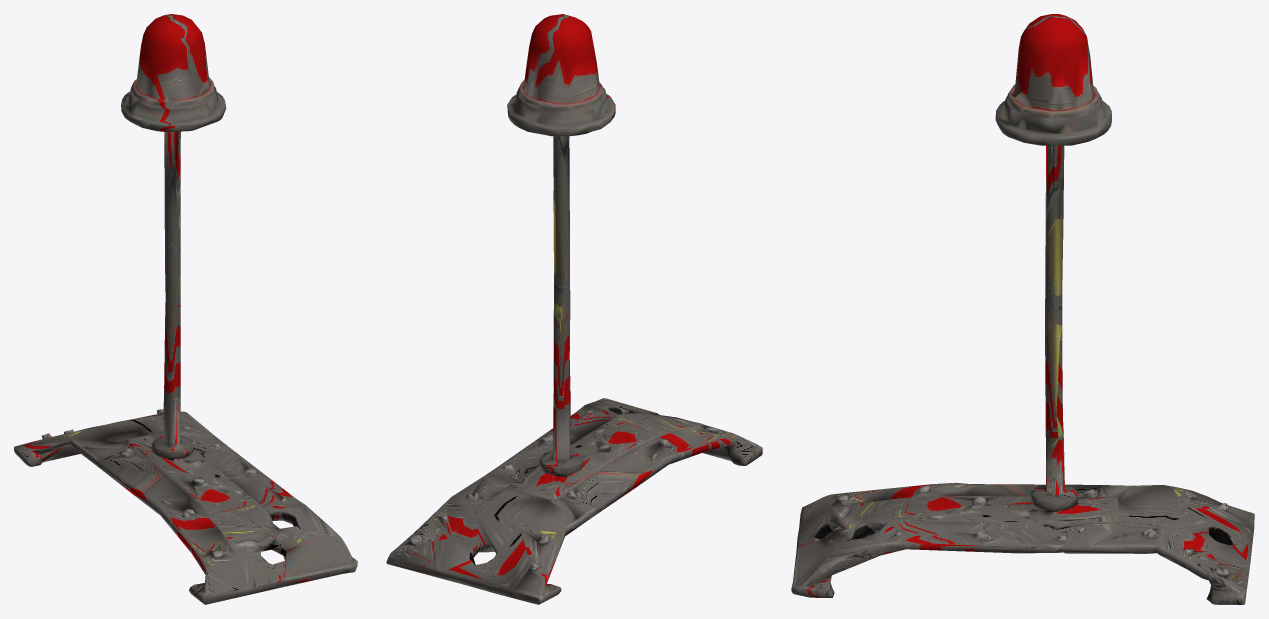
The model's file is disc_beacon.glb.
3 views of the same model, side by side, from view 1: azimuth 30°, elevation 25°; view 2: azimuth 150°, elevation 25°; view 3: azimuth 270°, elevation 25° (orthographic). The views are drawn at different scales.
Parts seen in each view (by area): view 1: tripo_node_bddd0a1d-896c-4143-a2b4-90d6b4c2355c; view 2: tripo_node_bddd0a1d-896c-4143-a2b4-90d6b4c2355c; view 3: tripo_node_bddd0a1d-896c-4143-a2b4-90d6b4c2355c.
Boxes of the visible parts, x1,y1,x2,y2 form: tripo_node_bddd0a1d-896c-4143-a2b4-90d6b4c2355c: (14, 14, 357, 604); tripo_node_bddd0a1d-896c-4143-a2b4-90d6b4c2355c: (386, 14, 762, 604); tripo_node_bddd0a1d-896c-4143-a2b4-90d6b4c2355c: (791, 14, 1254, 604).
Size of the model in its own units: 0.3568 by 0.9991 by 0.773.
Materials: 1 (1 with a texture image).
